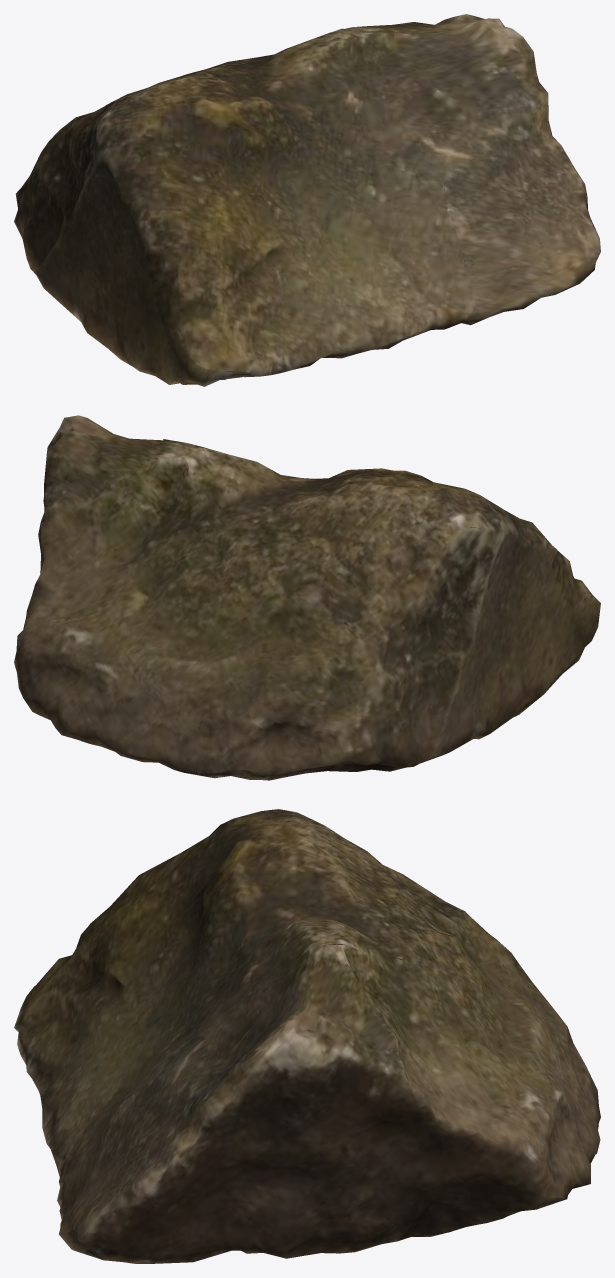
File: rocher.glb
3 renders of one model, top to bottom at view 1: azimuth 30°, elevation 25°; view 2: azimuth 150°, elevation 25°; view 3: azimuth 270°, elevation 25°, orthographic. The views are drawn at different scales.
Parts seen in each view (by area): view 1: rocher; view 2: rocher; view 3: rocher.
Boxes of the visible parts, left/top/right/bottom form: rocher: left=14, top=14, right=600, bottom=386; rocher: left=14, top=415, right=600, bottom=780; rocher: left=14, top=809, right=600, bottom=1263.
Size of the model in its own units: 2.61 by 1.36 by 2.57.
1 material, 1 textured.
